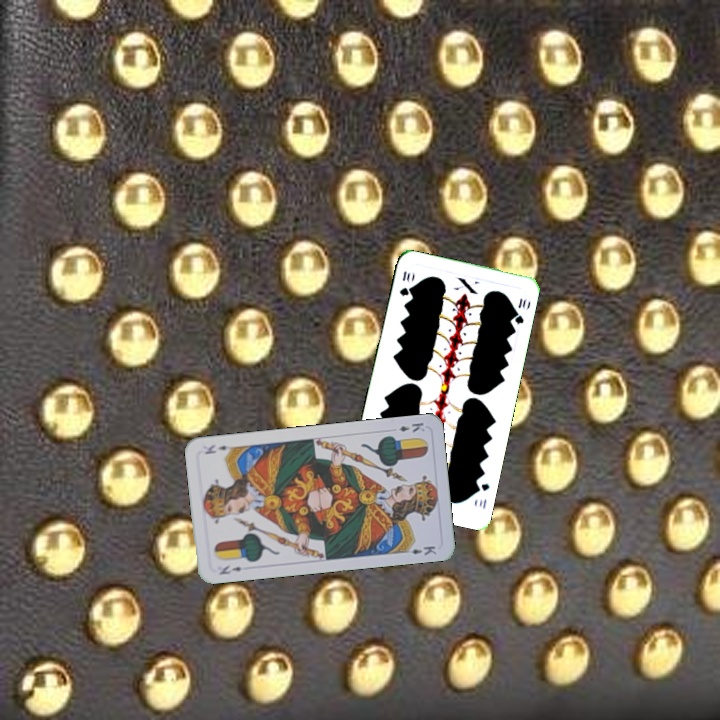EK: (395, 418, 427, 435), (215, 561, 244, 577)
G10: (472, 479, 492, 512), (395, 267, 413, 298)
